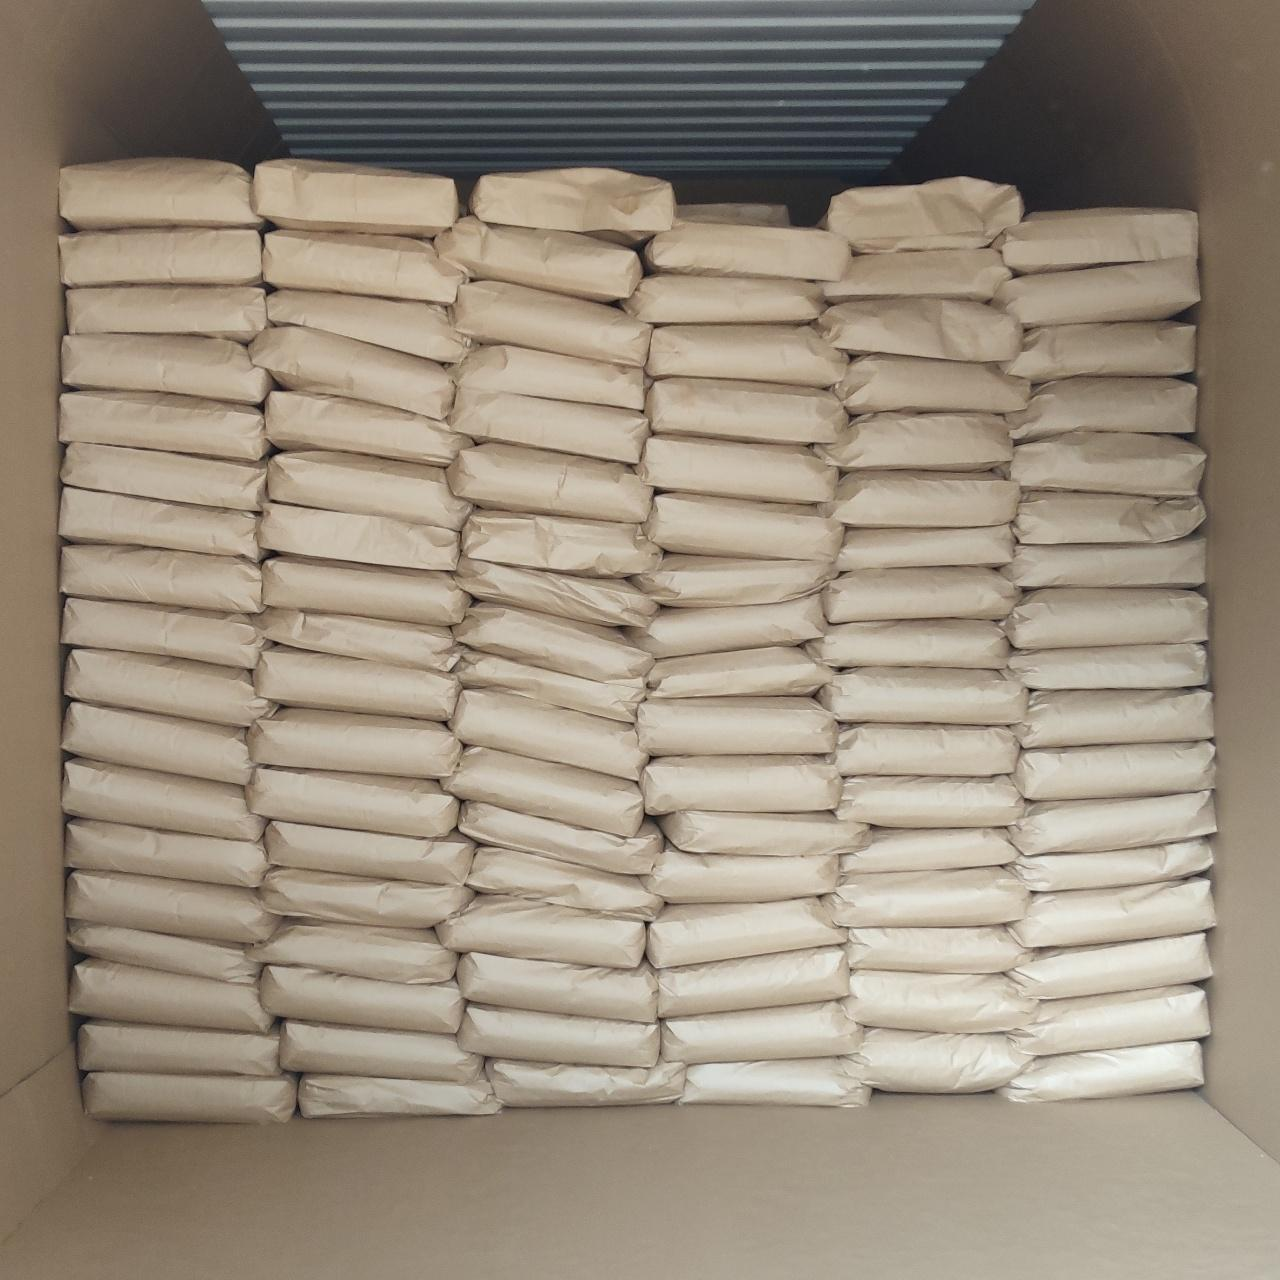sack: (248, 326, 452, 418), (434, 216, 642, 302), (442, 747, 644, 836), (450, 689, 646, 779), (452, 281, 651, 367), (445, 443, 652, 523), (470, 168, 675, 247), (62, 760, 263, 840), (64, 649, 273, 726), (252, 159, 459, 236), (62, 702, 252, 785), (268, 451, 467, 530), (266, 392, 472, 467), (821, 176, 1023, 252), (451, 388, 649, 464), (66, 871, 277, 942), (437, 896, 645, 968), (263, 230, 467, 304), (454, 605, 653, 680), (254, 647, 459, 720), (267, 290, 471, 362), (459, 801, 663, 873), (70, 959, 271, 1033), (247, 767, 457, 837), (250, 708, 459, 778), (60, 486, 263, 559), (992, 258, 1199, 328), (60, 157, 263, 229), (62, 334, 271, 403), (1012, 877, 1216, 947), (62, 598, 263, 669), (61, 442, 267, 511), (59, 392, 268, 459), (263, 556, 469, 624), (458, 952, 658, 1022), (1009, 986, 1208, 1056), (464, 847, 662, 918), (263, 965, 463, 1034), (647, 898, 847, 967), (455, 649, 645, 722), (66, 819, 268, 887), (456, 558, 658, 626), (61, 545, 261, 613), (642, 493, 844, 560), (992, 207, 1197, 273), (261, 610, 474, 673), (658, 947, 847, 1017), (628, 592, 828, 659), (645, 377, 847, 443), (261, 503, 458, 570), (819, 297, 1020, 362), (1009, 934, 1212, 999), (246, 921, 456, 983), (1010, 791, 1216, 855), (265, 821, 474, 883), (1001, 433, 1205, 496), (464, 510, 660, 576), (642, 436, 837, 502), (1005, 377, 1196, 444), (646, 218, 851, 280), (1003, 588, 1208, 651), (645, 325, 847, 387), (280, 1020, 482, 1082), (452, 346, 646, 410), (458, 1005, 659, 1067), (662, 1001, 863, 1063), (813, 469, 1021, 529), (263, 869, 474, 927), (998, 1042, 1203, 1102), (842, 1028, 1032, 1092), (60, 229, 261, 288), (68, 919, 258, 982), (842, 971, 1039, 1032), (636, 697, 838, 756), (1013, 741, 1214, 799), (817, 667, 1027, 723), (822, 869, 1027, 926), (1012, 692, 1213, 748), (640, 757, 840, 813), (1002, 322, 1194, 381), (67, 286, 266, 342), (836, 354, 1027, 413), (817, 414, 1012, 471), (821, 567, 1019, 622), (79, 1021, 280, 1075), (642, 847, 838, 903), (633, 554, 835, 607), (1015, 837, 1212, 891), (1001, 537, 1205, 588), (620, 274, 824, 325), (84, 1073, 297, 1121), (823, 248, 1012, 302), (1014, 491, 1205, 544), (835, 723, 1017, 777), (806, 620, 1007, 668), (836, 776, 1024, 826), (646, 647, 833, 697), (658, 811, 869, 856), (486, 1060, 686, 1107), (1005, 644, 1208, 689), (681, 1058, 870, 1107), (299, 1075, 503, 1117), (846, 927, 1028, 972), (842, 829, 1017, 874), (837, 525, 1013, 570)
